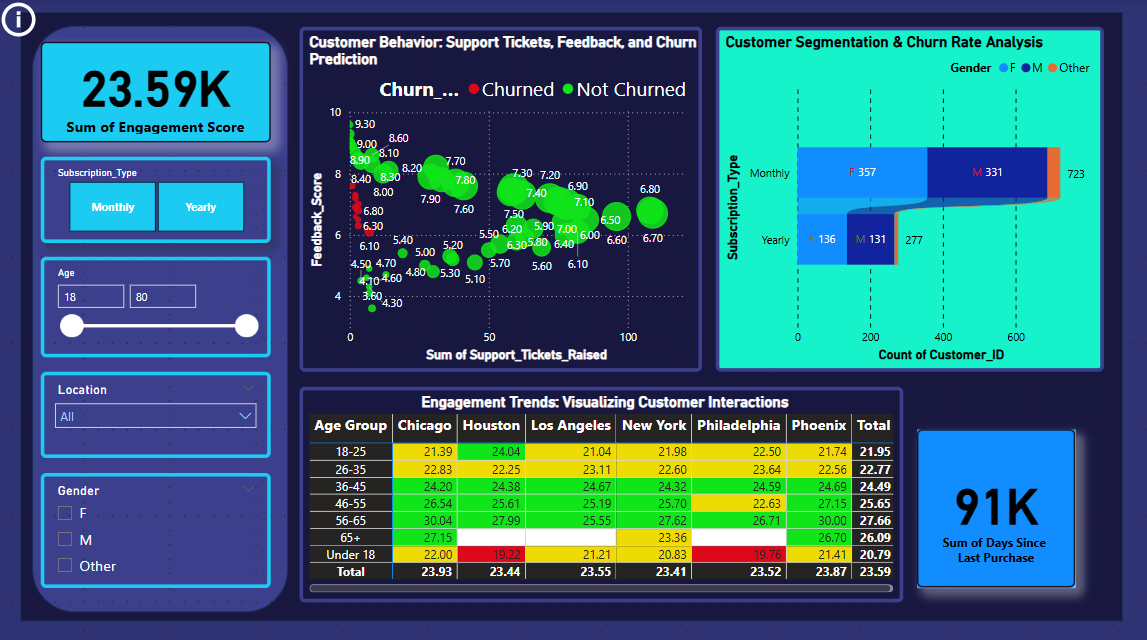

What the dashboard file says about the page in this screenshot:
{"tool":"powerbi","page":{"name":"Customer Behaviour Analysis","canvas":[1280,720],"ordinal":2},"visuals":[{"type":"pivotTable","title":"Engagement Trends: Visualizing Customer Interactions","fields":{"Rows":["churn_dataset.Age Group"],"Columns":["churn_dataset.Location"],"Values":["Avg(churn_dataset.Engagement Score)"]},"box":[336,432,672,240],"z":0},{"type":"scatterChart","title":"Customer Behavior: Support Tickets, Feedback, and Churn Prediction","fields":{"X":["Sum(churn_dataset.Support_Tickets_Raised)"],"Y":["churn_dataset.Feedback_Score"],"Size":["Sum(churn_dataset.Total_Spend)"],"Series":["churn_dataset.Churn_Status"]},"box":[336,32,448,384],"z":1000},{"type":"barChart","title":"Customer Segmentation & Churn Rate Analysis","fields":{"Series":["churn_dataset.Gender"],"Category":["churn_dataset.Subscription_Type"],"Y":["CountNonNull(churn_dataset.Customer_ID)"]},"box":[800,32,432,384],"z":2000},{"type":"slicer","fields":{"Values":["churn_dataset.Location"]},"box":[48,416,256,96],"z":3000},{"type":"slicer","fields":{"Values":["churn_dataset.Subscription_Type"]},"box":[48,176,256,96],"z":4000},{"type":"slicer","fields":{"Values":["churn_dataset.Gender"]},"box":[48,528,256,128],"z":5000},{"type":"card","fields":{"Values":["Sum(churn_dataset.Engagement Score)"]},"box":[48,48,256,112],"z":6000},{"type":"card","fields":{"Values":["Sum(churn_dataset.Days Since Last Purchase)"]},"box":[1024,480,176,176],"z":7000,"group":"g1"},{"type":"slicer","fields":{"Values":["churn_dataset.Age"]},"box":[48,288,256,112],"z":7000},{"type":"group","id":"g1","title":"Group 1","box":[1024,480,176,176],"z":8000},{"type":"actionButton","box":[0,0,48,48],"z":9000}]}

Visuals, with their boxes in screenshot pixels (x1, y1, x2, y2), scaled from the page's 1280x720 canvas onto the 1147x640 screenshot:
"Engagement Trends: Visualizing Customer Interactions" pivotTable: Rect(301, 384, 903, 597)
"Customer Behavior: Support Tickets, Feedback, and Churn Prediction" scatterChart: Rect(301, 28, 703, 370)
"Customer Segmentation & Churn Rate Analysis" barChart: Rect(717, 28, 1104, 370)
slicer - churn_dataset.Location: Rect(43, 370, 272, 455)
slicer - churn_dataset.Subscription_Type: Rect(43, 156, 272, 242)
slicer - churn_dataset.Gender: Rect(43, 469, 272, 583)
card - Sum(churn_dataset.Engagement Score): Rect(43, 43, 272, 142)
card - Sum(churn_dataset.Days Since Last Purchase): Rect(918, 427, 1075, 583)
slicer - churn_dataset.Age: Rect(43, 256, 272, 356)
"Group 1" group: Rect(918, 427, 1075, 583)
actionButton: Rect(0, 0, 43, 43)
